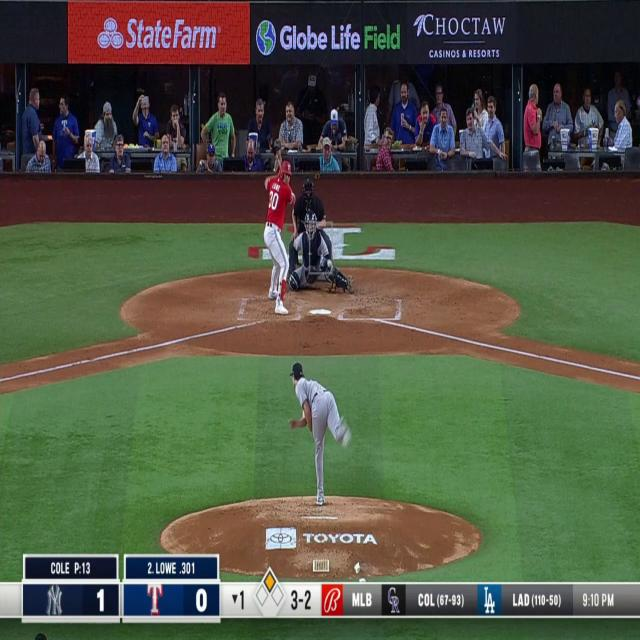baseball: (327, 259, 332, 267)
